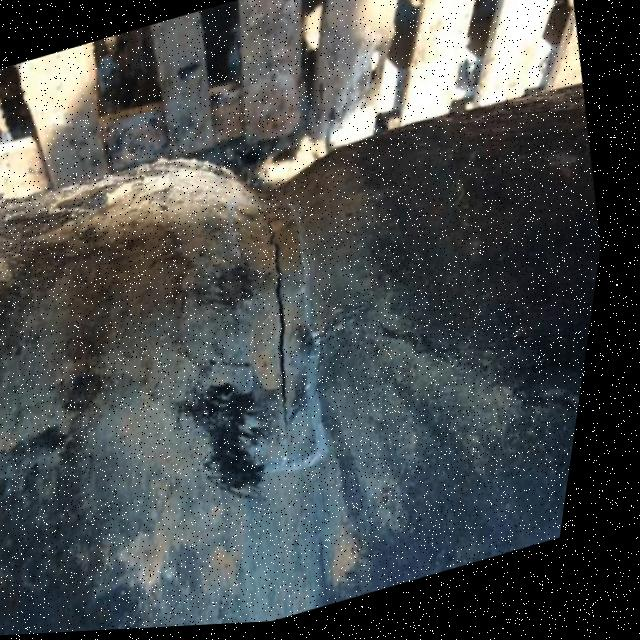crack: (263, 206, 308, 452)
